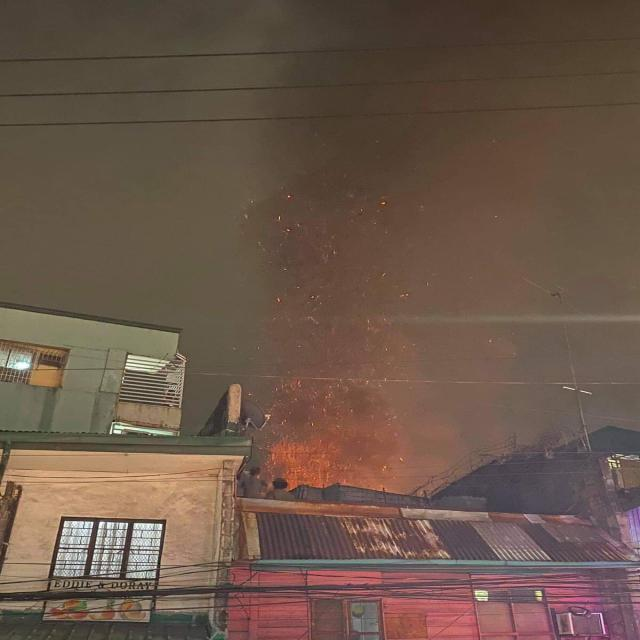Fire: (272, 426, 389, 491)
